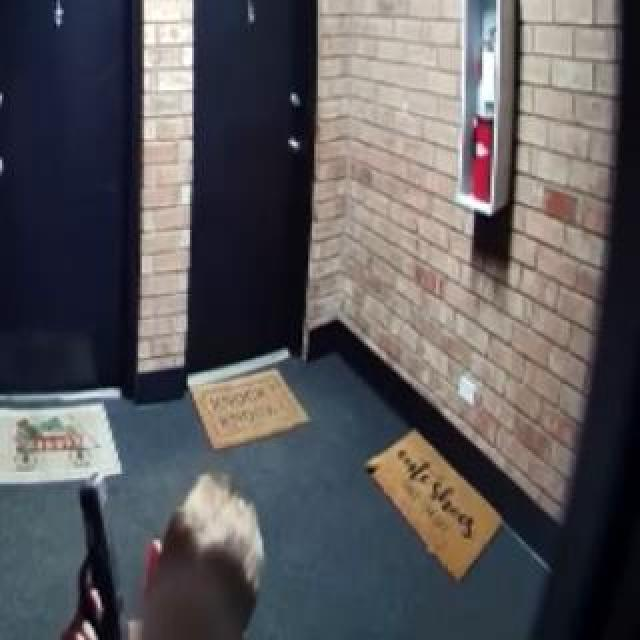Guns: (49, 441, 158, 640)
